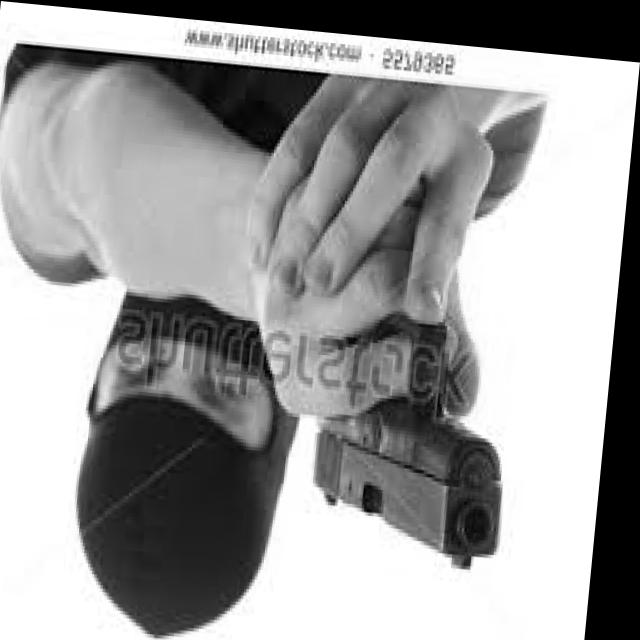handgun: (309, 295, 521, 560)
